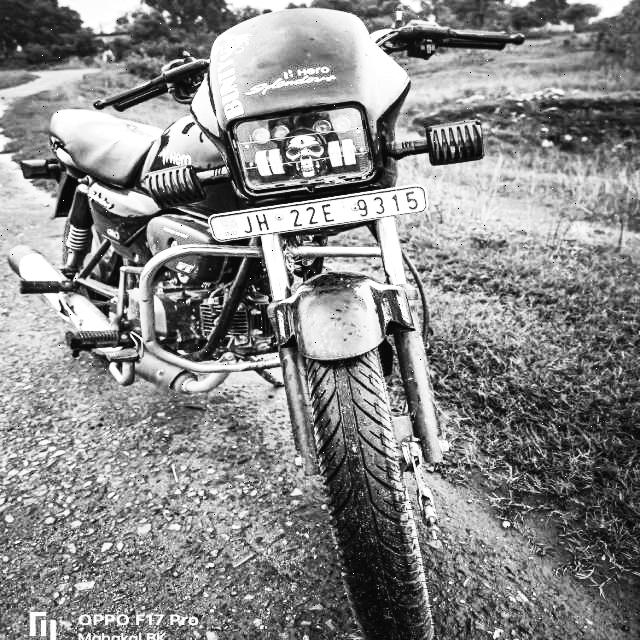Bike: (29, 7, 521, 640)
